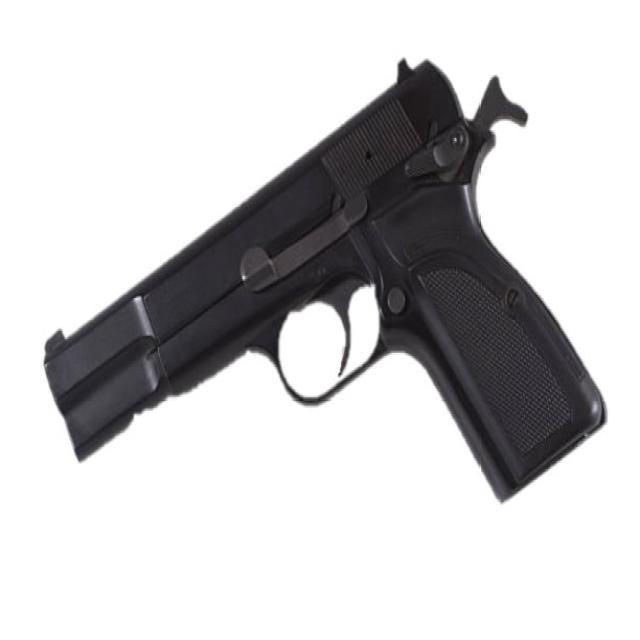pistol: (35, 54, 615, 507)
